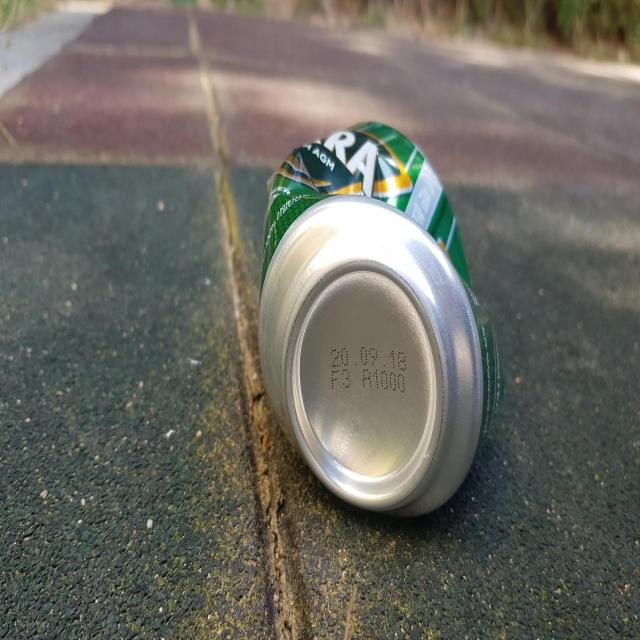can: (259, 120, 503, 516)
